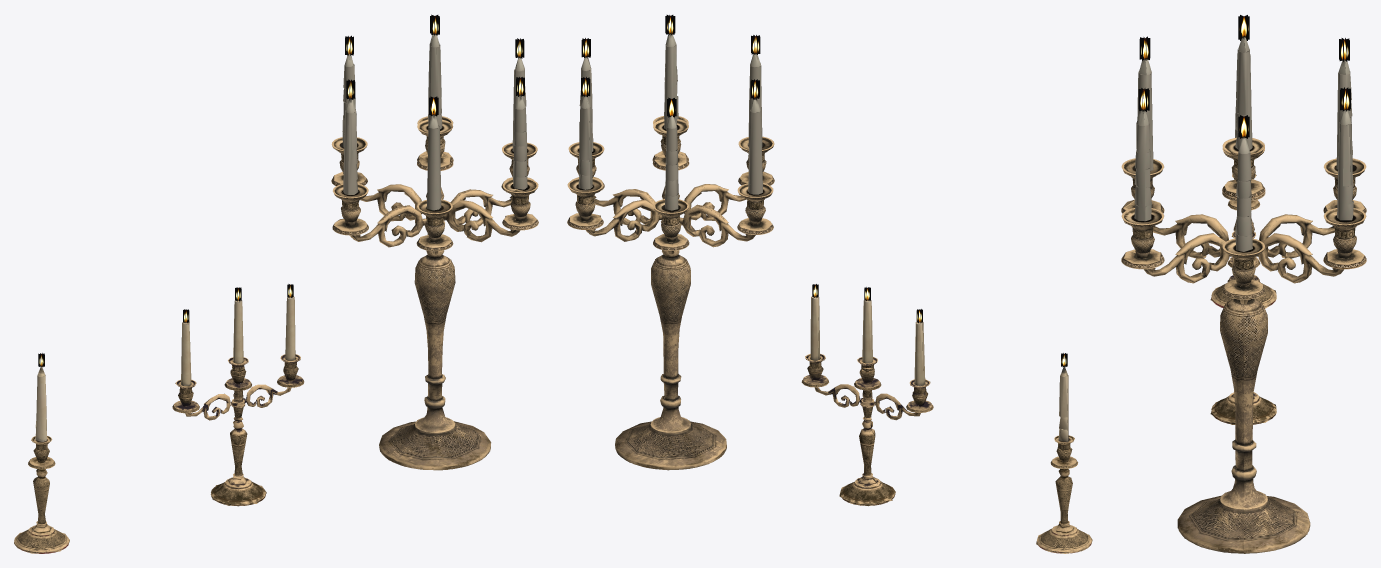
The model's file is brass_candleholders.glb.
The picture shows the model from 3 angles, left to right: view 1: azimuth 30°, elevation 25°; view 2: azimuth 150°, elevation 25°; view 3: azimuth 270°, elevation 25°; orthographic projection. The views are drawn at different scales.
Visible parts, largest first — view 1: brass_candleholder_03, brass_candleholder_02, brass_candleholder_01; view 2: brass_candleholder_03, brass_candleholder_02, brass_candleholder_01; view 3: brass_candleholder_03, brass_candleholder_02, brass_candleholder_01.
Part boxes in pixels (left/top/right/bottom): brass_candleholder_03: left=331, top=14, right=538, bottom=470; brass_candleholder_02: left=172, top=284, right=304, bottom=506; brass_candleholder_01: left=14, top=353, right=69, bottom=553; brass_candleholder_03: left=567, top=15, right=774, bottom=470; brass_candleholder_02: left=801, top=284, right=933, bottom=506; brass_candleholder_01: left=1036, top=353, right=1092, bottom=553; brass_candleholder_03: left=1121, top=15, right=1366, bottom=553; brass_candleholder_02: left=1210, top=231, right=1276, bottom=424; brass_candleholder_01: left=1210, top=174, right=1276, bottom=308.
Size of the model in its own units: 1.05 by 0.8353 by 0.3647.
5 materials, 5 textured.
